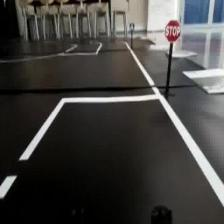Stop: (164, 19, 184, 44)
